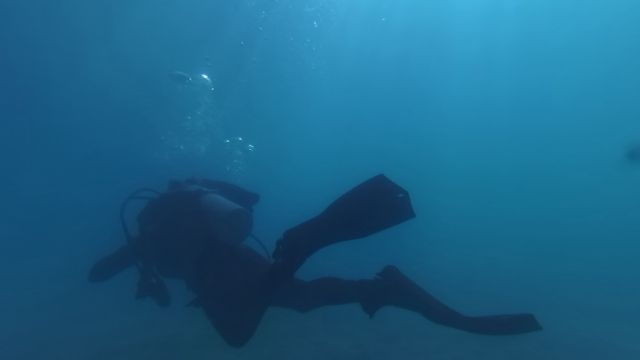Diver: (82, 163, 551, 351)
